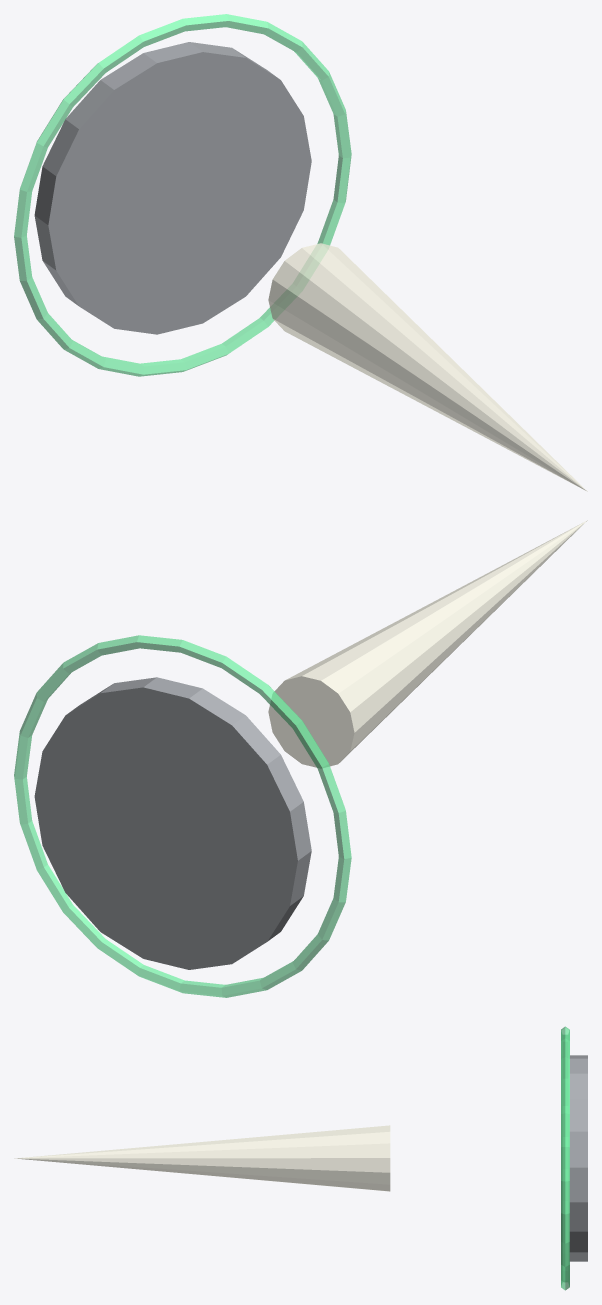
File: vfx_checkpoint_flare.glb
3 views of the same model, one above another, from view 1: azimuth 30°, elevation 25°; view 2: azimuth 150°, elevation 25°; view 3: azimuth 270°, elevation 25° (orthographic). The views are drawn at different scales.
Visible parts, largest first — view 1: base, beam, ring; view 2: base, beam, ring; view 3: beam, base, ring.
Part boxes in pixels (x1,y1,x2,y2): base: (34,42,311,334); beam: (268,243,587,491); ring: (14,14,351,376); base: (34,677,311,969); beam: (268,520,587,768); ring: (14,635,351,997); beam: (14,1125,390,1191); base: (569,1055,587,1261); ring: (561,1026,569,1290).
Bounding box in the file's own units: 1.41 × 1.41 × 3.05.
